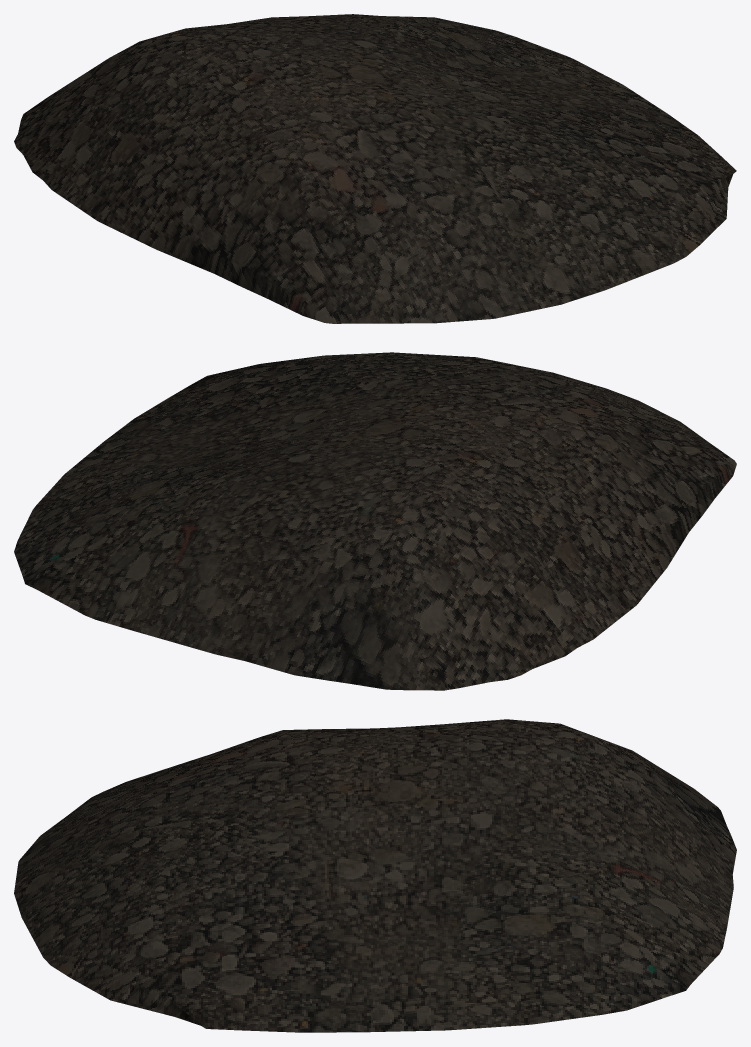
Rendered from gravel_pile_hr_2.glb.
3 views of the same model, one above another, from view 1: azimuth 30°, elevation 25°; view 2: azimuth 150°, elevation 25°; view 3: azimuth 270°, elevation 25° (orthographic). The views are drawn at different scales.
Visible parts, largest first — view 1: gravel_pile_hr_2; view 2: gravel_pile_hr_2; view 3: gravel_pile_hr_2.
Part boxes in pixels (left/top/right/bottom): gravel_pile_hr_2: left=14, top=14, right=736, bottom=323; gravel_pile_hr_2: left=14, top=352, right=736, bottom=690; gravel_pile_hr_2: left=14, top=719, right=736, bottom=1032.
Size of the model in its own units: 1.49 by 0.2791 by 1.67.
1 material, 1 textured.
